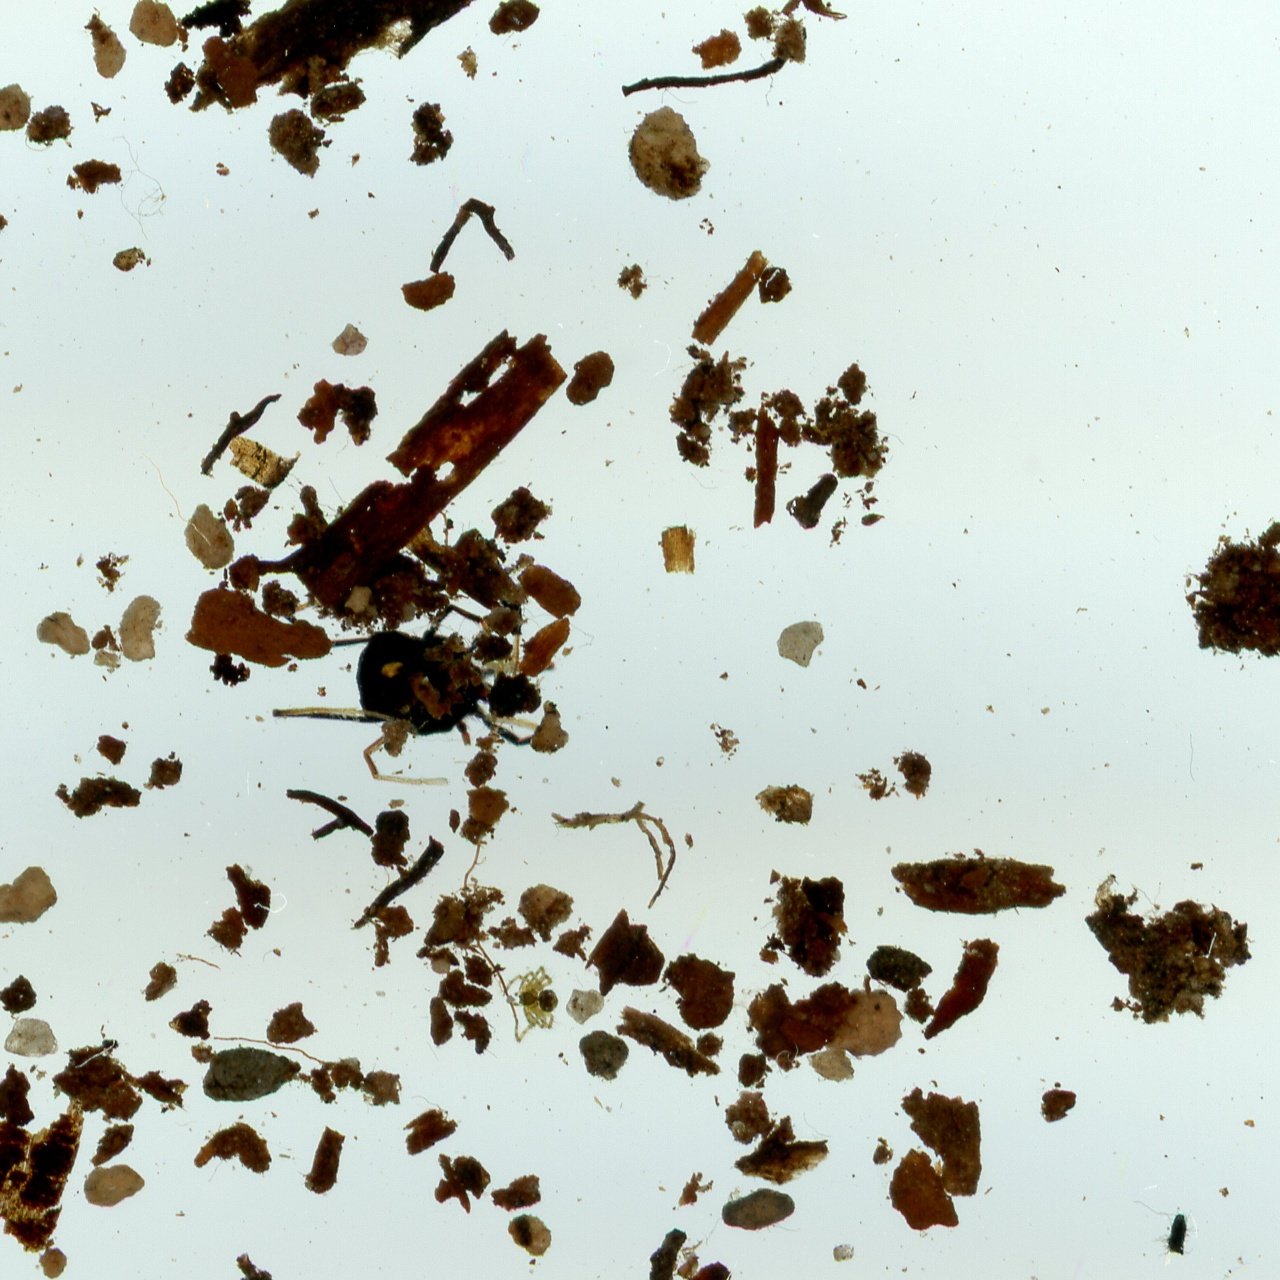arthropod: (267, 597, 543, 789), (498, 960, 565, 1049)
